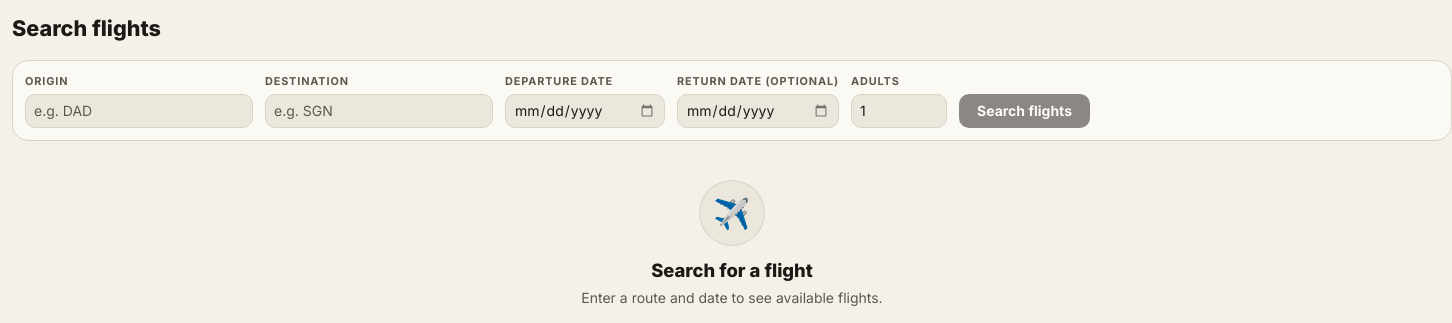
Test: FlightsPage › shows an empty state when there are no results
Type "dad" into the field labelled "Origin" at (139, 111), box top-left (25, 94), bottom-right (253, 128)
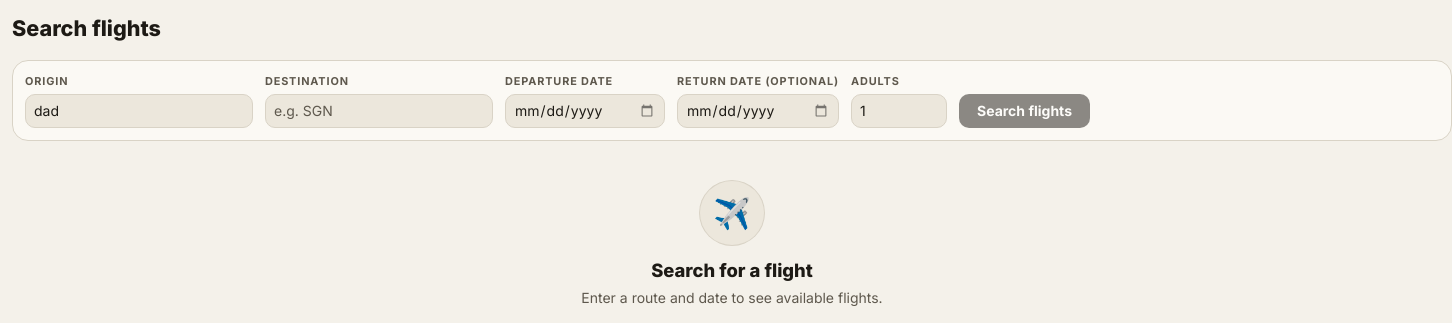
Type "sgn" into the field labelled "Destination" at (379, 111), box top-left (265, 94), bottom-right (493, 128)
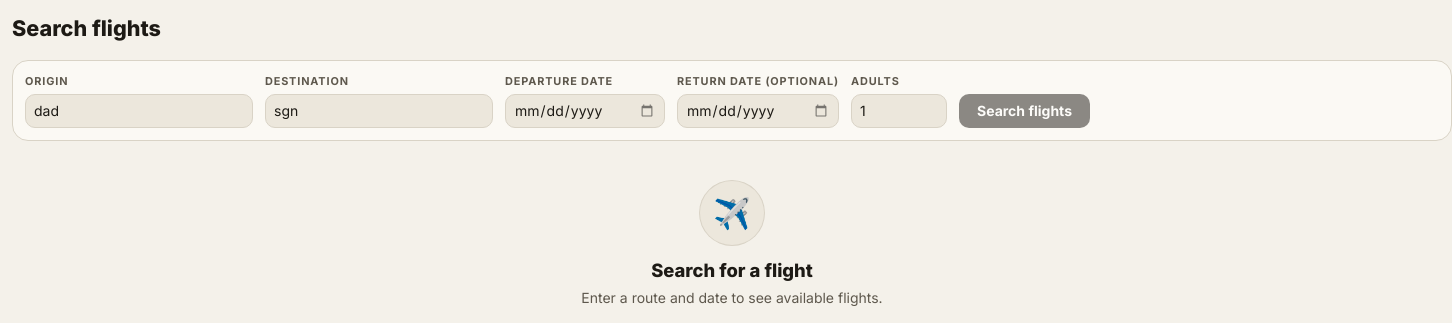
Type "2026-06-01" into the date field labelled "Departure date" at (585, 111), box top-left (505, 94), bottom-right (665, 128)
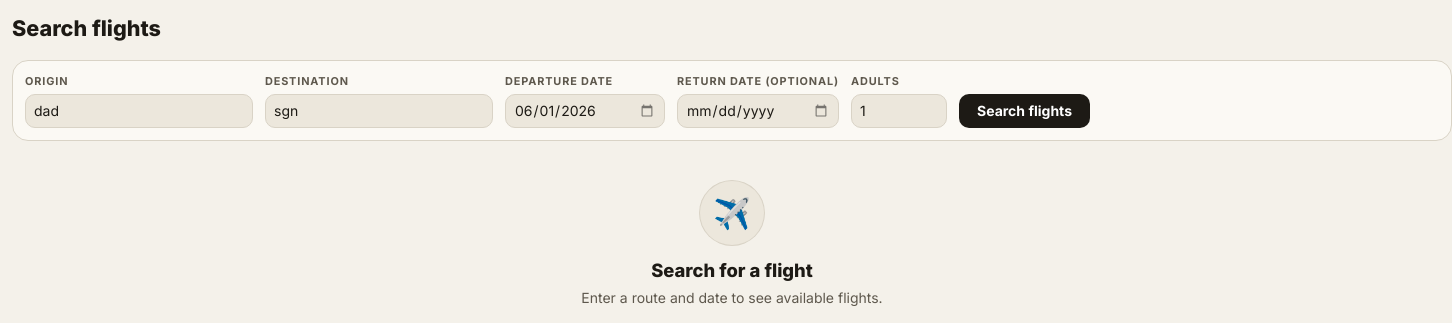
Click the button "Search flights" at (1024, 111), box top-left (959, 94), bottom-right (1090, 128)
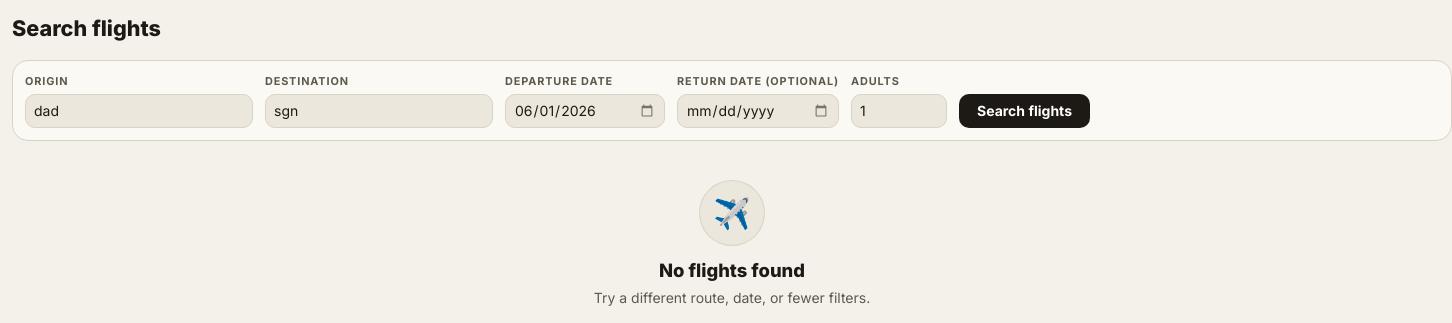
Now the text "No flights found" is shown, box top-left (659, 259), bottom-right (805, 281)
